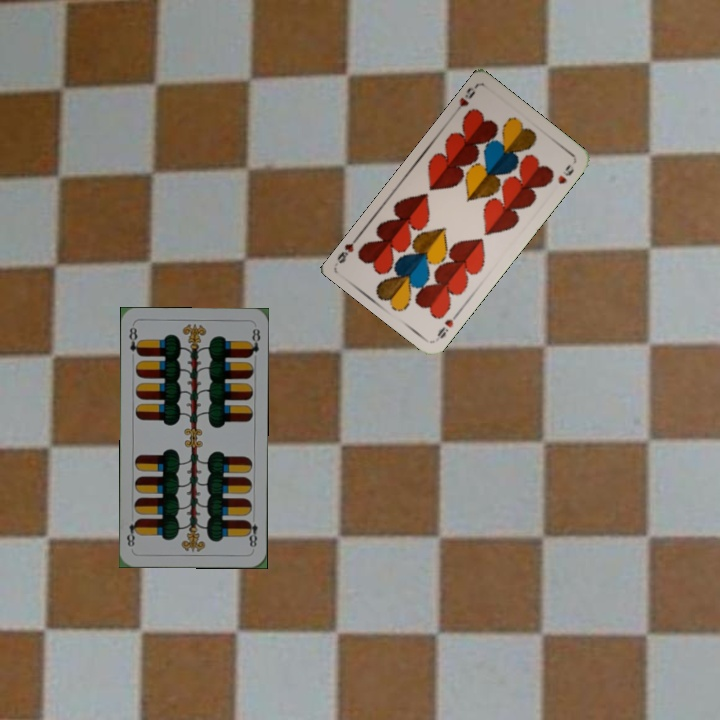E8: (243, 511, 260, 550), (125, 323, 143, 359)
H9: (433, 308, 462, 341), (455, 84, 478, 109)
